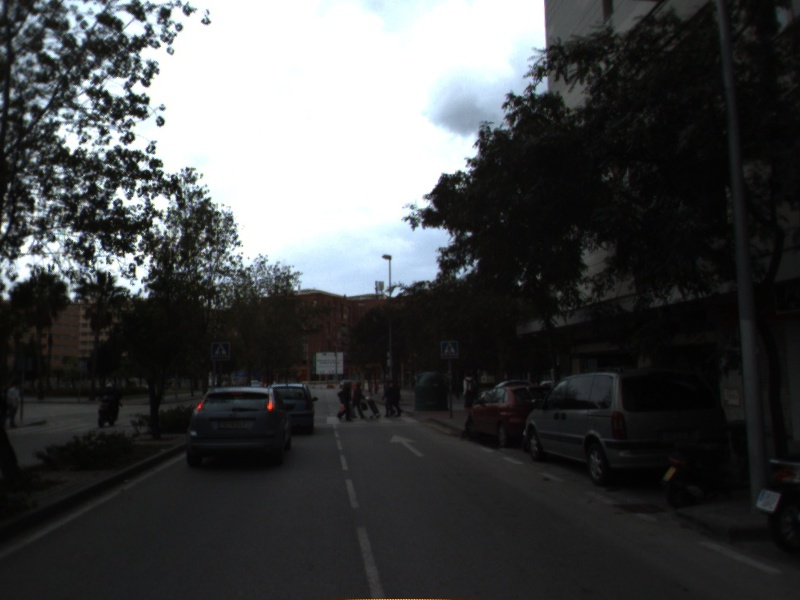STRAIGHT: (388, 432, 429, 459)
